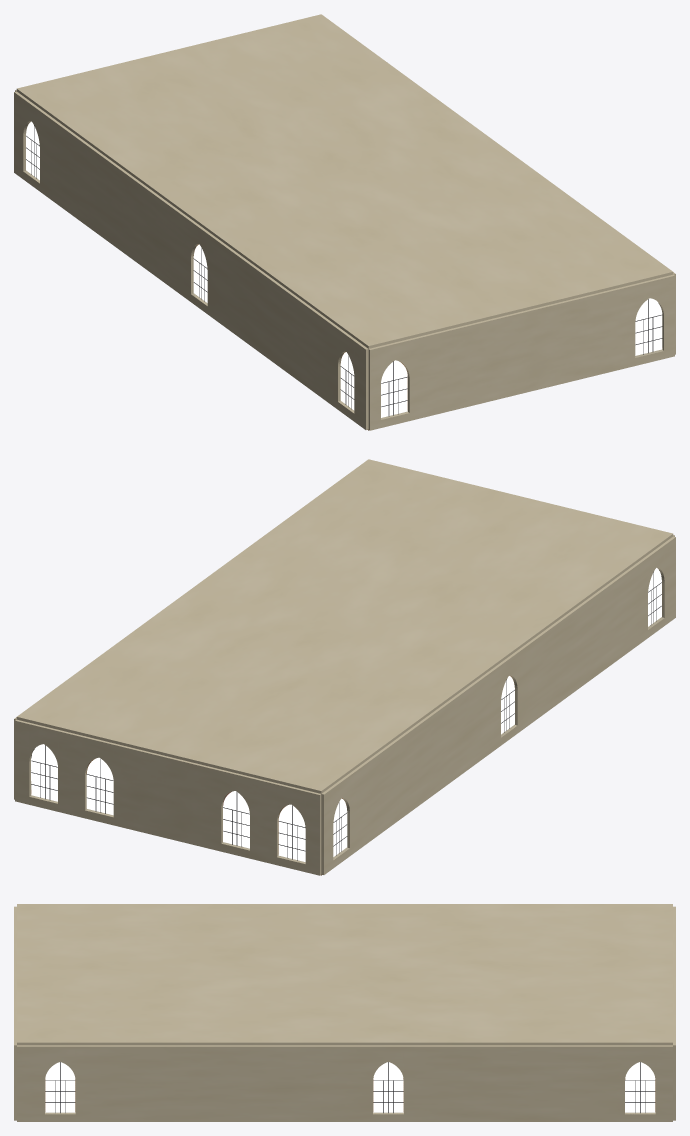
File: library.glb
The picture shows the model from 3 angles, top to bottom: view 1: azimuth 30°, elevation 25°; view 2: azimuth 150°, elevation 25°; view 3: azimuth 270°, elevation 25°; orthographic projection. The views are drawn at different scales.
Parts seen in each view (by area): view 1: Hall_Ceiling, Hall_Wall_W, Hall_Wall_S, Hall_CeilingBeams, Window_S_Glass_02, Window_S_Glass_01, Window_W_Glass_02, Window_W_Glass_03, Window_W_Glass_01; view 2: Hall_Ceiling, Hall_Wall_W, Hall_Wall_N, Hall_CeilingBeams, Window_N_Glass_01, Window_N_Glass_03, Window_N_Glass_04, Window_N_Glass_02, Window_W_Glass_01, Window_W_Glass_02, Window_W_Glass_03; view 3: Hall_Ceiling, Hall_Wall_E, Hall_CeilingBeams, Window_E_Glass_03, Window_E_Glass_01, Window_E_Glass_02, Hall_Wall_N, Hall_Wall_S.
Boxes of the visible parts, x1,y1,x2,y2 form: Hall_Ceiling: (16,14,673,346); Hall_Wall_W: (14,91,368,429); Hall_Wall_S: (368,274,674,430); Hall_CeilingBeams: (16,90,673,348); Window_S_Glass_02: (635,298,662,355); Window_S_Glass_01: (381,360,407,417); Window_W_Glass_02: (193,244,207,302); Window_W_Glass_03: (340,352,354,410); Window_W_Glass_01: (26,121,39,180); Hall_Ceiling: (16,459,673,791); Hall_Wall_W: (321,536,675,874); Hall_Wall_N: (15,719,321,875); Hall_CeilingBeams: (16,535,673,793); Window_N_Glass_01: (278,804,305,861); Window_N_Glass_03: (86,757,113,815); Window_N_Glass_04: (31,744,57,801); Window_N_Glass_02: (223,791,249,848); Window_W_Glass_01: (333,798,347,856); Window_W_Glass_02: (501,675,514,734); Window_W_Glass_03: (648,568,661,626); Hall_Ceiling: (17,904,672,1043); Hall_Wall_E: (17,1045,672,1121); Hall_CeilingBeams: (17,1043,672,1045); Window_E_Glass_03: (45,1062,75,1112); Window_E_Glass_01: (625,1062,655,1112); Window_E_Glass_02: (373,1062,403,1112); Hall_Wall_N: (673,906,675,1120); Hall_Wall_S: (14,906,16,1120).
Size of the model in its own units: 34.6 by 9 by 68.6.
Materials: 5 (2 with a texture image).
